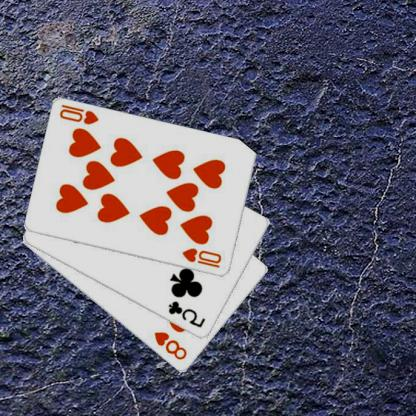10H: (181, 245, 225, 270), (59, 102, 102, 126)
5C: (168, 298, 209, 330)
8H: (153, 329, 190, 362)
